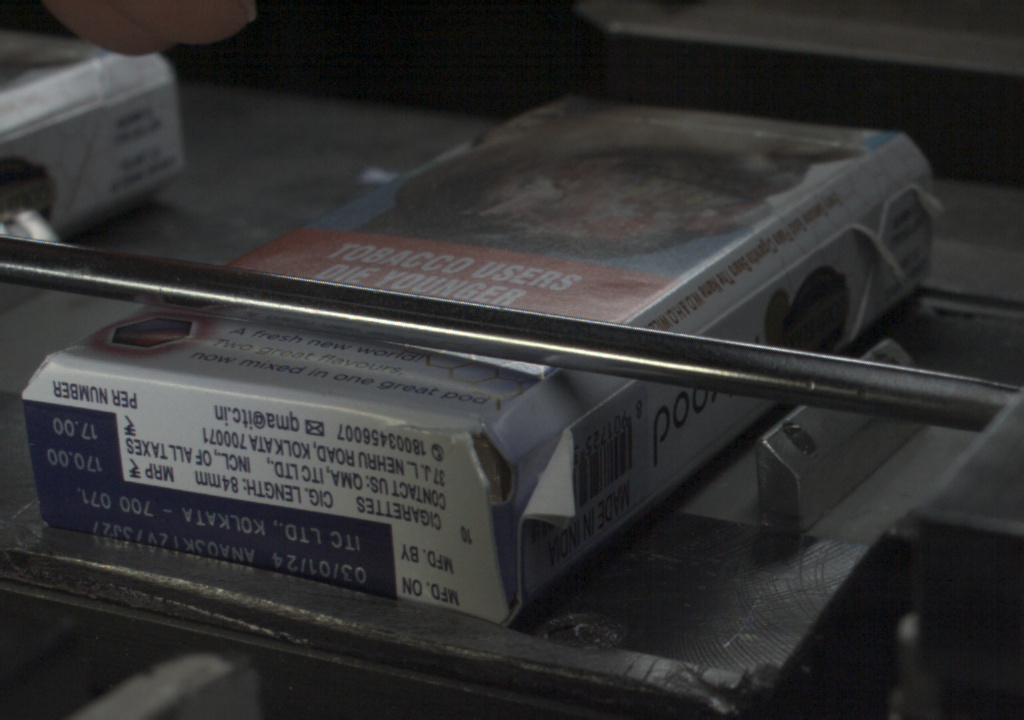g_label: (31, 477, 395, 595)
ng_bottom: (461, 416, 518, 625)
ng_lmiter: (525, 426, 578, 531), (850, 222, 912, 286)
ng_miter: (892, 174, 946, 217)
price: (32, 411, 121, 479)
